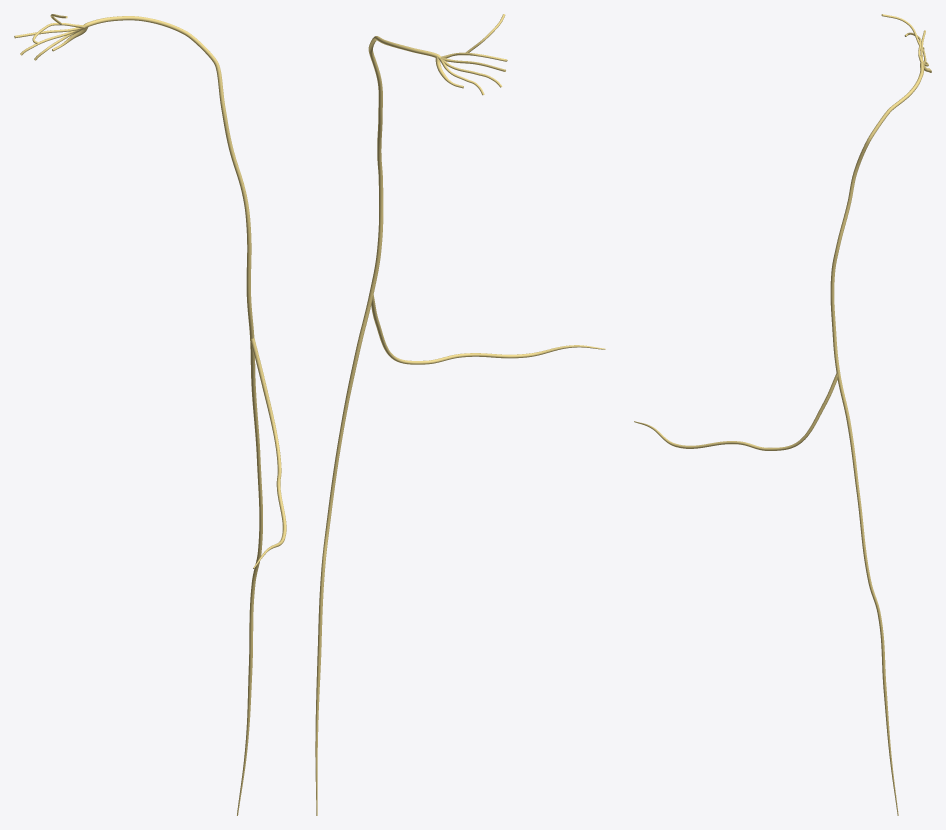
3 renders of one model, left to right at view 1: azimuth 30°, elevation 25°; view 2: azimuth 150°, elevation 25°; view 3: azimuth 270°, elevation 25°, orthographic. The views are drawn at different scales.
Visible parts, largest first — view 1: ZA_8161802b5bcc03be; view 2: ZA_8161802b5bcc03be; view 3: ZA_8161802b5bcc03be.
Part boxes in pixels (x1,y1,x2,y2): ZA_8161802b5bcc03be: (14,14,286,815); ZA_8161802b5bcc03be: (315,14,605,815); ZA_8161802b5bcc03be: (634,14,931,815).
Bounding box in the file's own units: 0.039 × 0.1476 × 0.0548.
